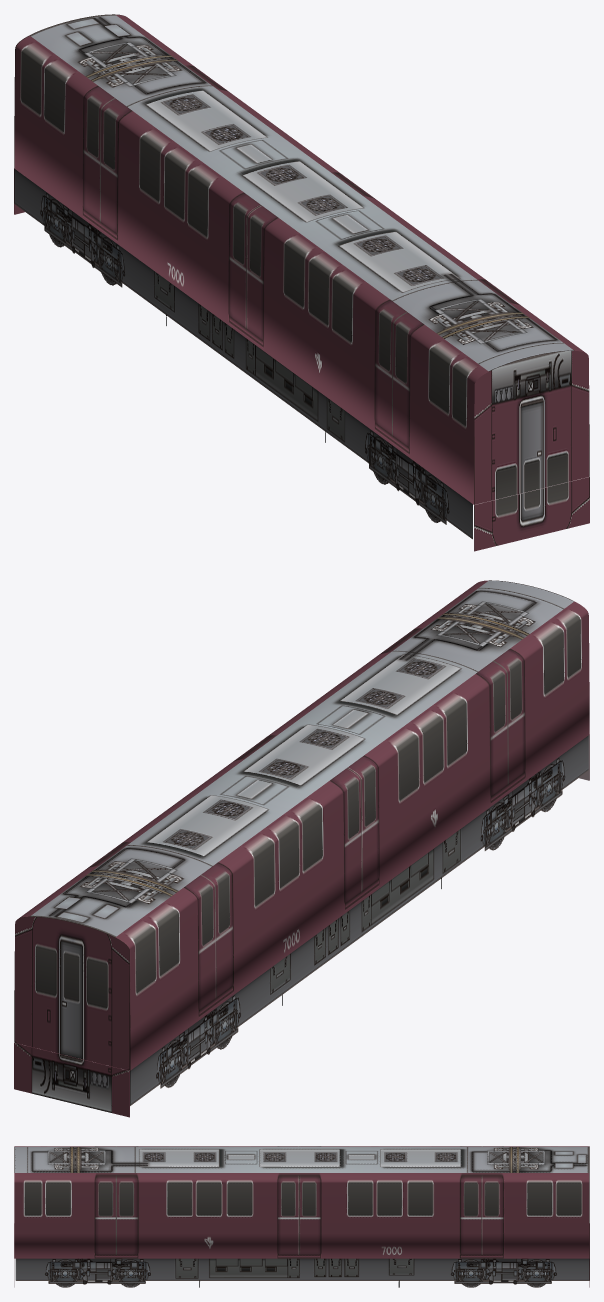
Rendered from car3.glb.
3 views of the same model, one above another, from view 1: azimuth 30°, elevation 25°; view 2: azimuth 150°, elevation 25°; view 3: azimuth 270°, elevation 25° (orthographic). The views are drawn at different scales.
Parts seen in each view (by area): view 1: hankyu-7000-car3; view 2: hankyu-7000-car3; view 3: hankyu-7000-car3.
Boxes of the visible parts, x1,y1,x2,y2 form: hankyu-7000-car3: (14, 14, 589, 551); hankyu-7000-car3: (14, 580, 589, 1117); hankyu-7000-car3: (14, 1146, 589, 1287).
Size of the model in its own units: 2.75 by 4.09 by 18.93.
Materials: 9 (8 with a texture image).
